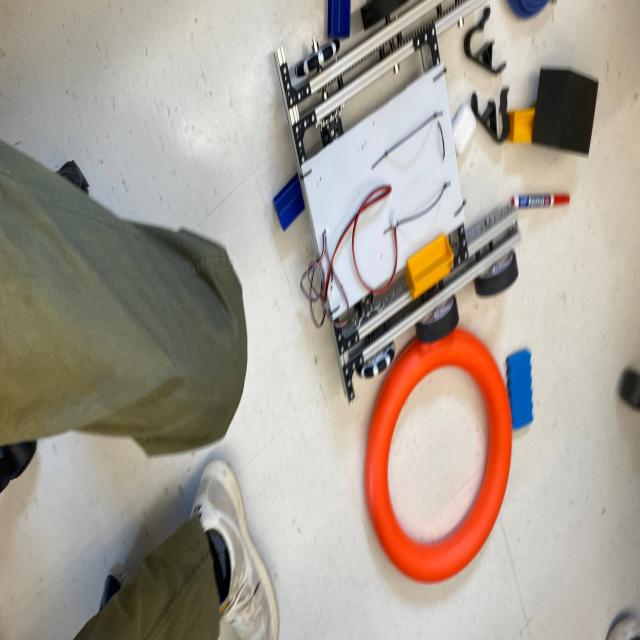blue-specimen: (273, 174, 305, 231), (328, 0, 351, 38)
yellow-specimen: (405, 233, 454, 300), (507, 108, 535, 143)
